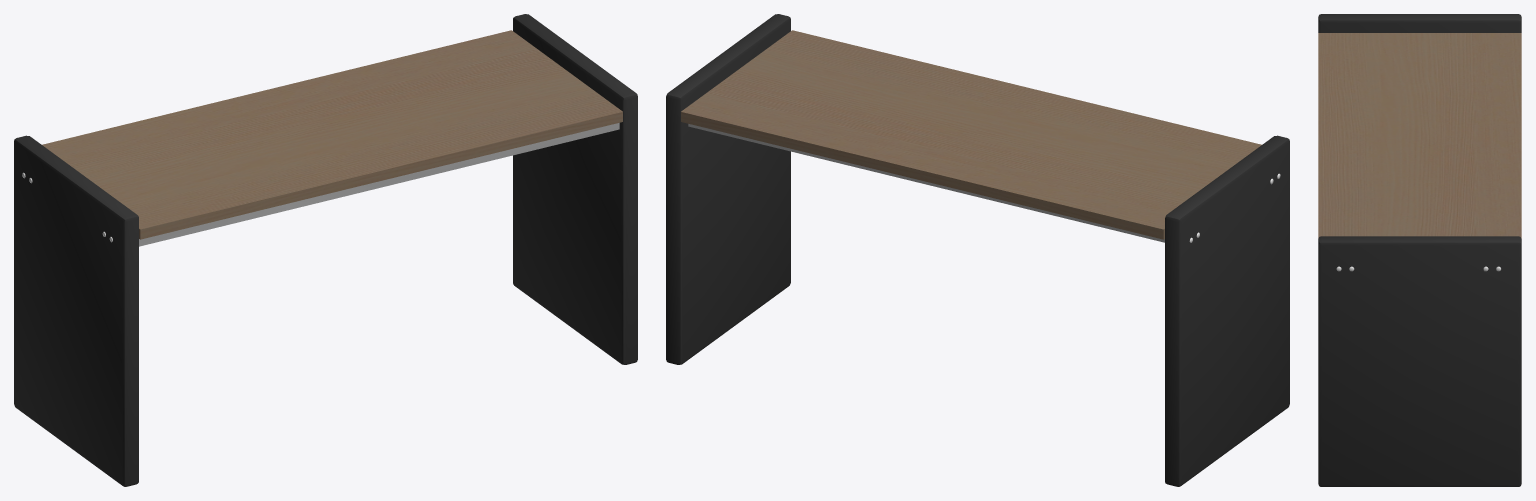
The model's file is 3D004_Office_Table.FBX.
The picture shows the model from 3 angles, left to right: view 1: azimuth 30°, elevation 25°; view 2: azimuth 150°, elevation 25°; view 3: azimuth 270°, elevation 25°; orthographic projection. The views are drawn at different scales.
Parts seen in each view (by area): view 1: 3D004_Office_Table; view 2: 3D004_Office_Table; view 3: 3D004_Office_Table.
Boxes of the visible parts, x1,y1,x2,y2 form: 3D004_Office_Table: (14, 14, 637, 486); 3D004_Office_Table: (666, 14, 1289, 486); 3D004_Office_Table: (1318, 14, 1521, 486).
Size of the model in its own units: 160 by 80 by 60.
